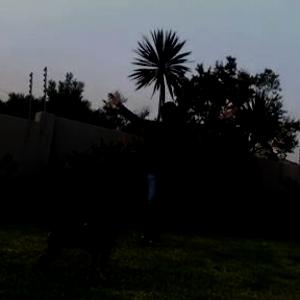takeoff: (110, 86, 244, 238)
